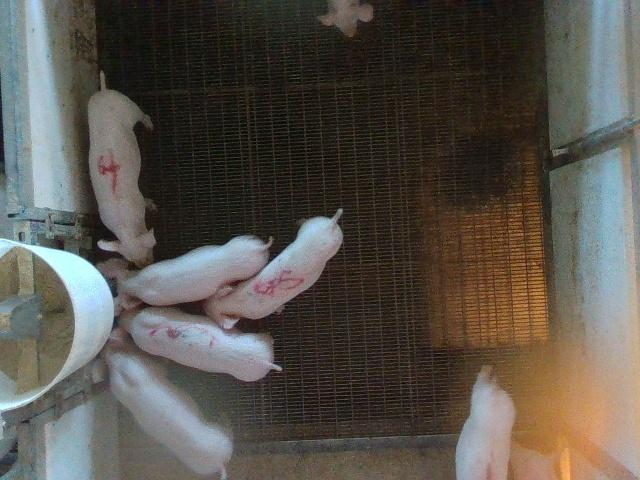pig-3: (119, 308, 281, 381)
pig-4: (88, 72, 156, 267)
pig-5: (206, 209, 342, 328)
